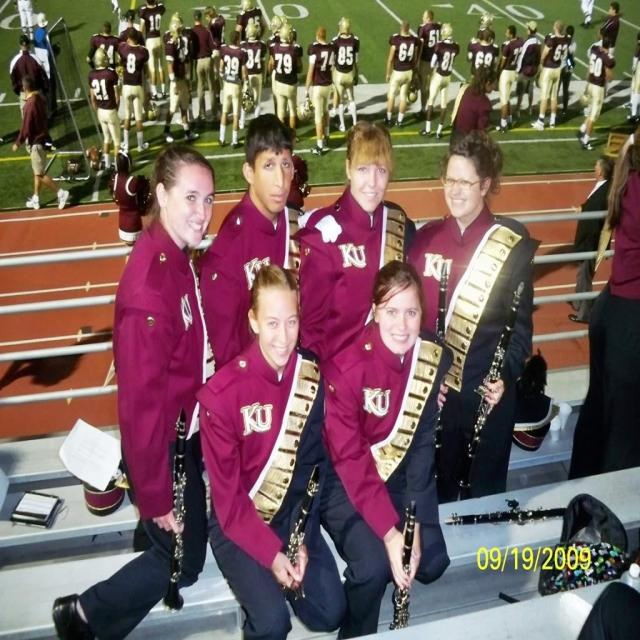clarinet: (455, 274, 531, 493), (158, 401, 200, 625), (276, 462, 324, 606), (433, 495, 577, 529), (387, 498, 419, 630), (435, 259, 451, 354)
